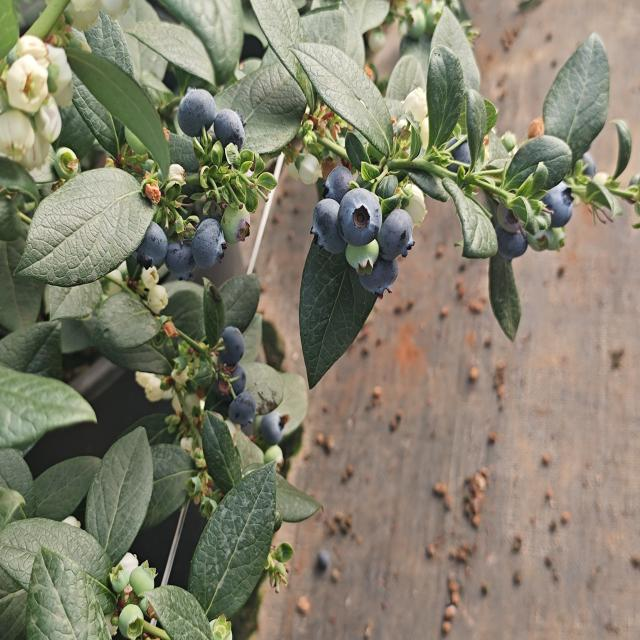ripe: (336, 186, 384, 250), (209, 370, 259, 425), (490, 204, 531, 266), (175, 86, 218, 140), (190, 216, 228, 272), (133, 218, 169, 272), (385, 208, 418, 263), (442, 132, 479, 180), (163, 239, 197, 288), (212, 107, 247, 154), (561, 143, 600, 185), (214, 324, 247, 370), (358, 257, 399, 294), (312, 196, 339, 248), (224, 389, 263, 425), (252, 412, 284, 449), (324, 161, 360, 192), (549, 188, 576, 226)
